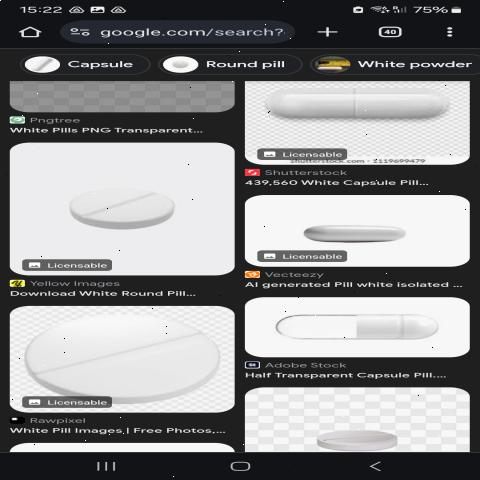Pill: (13, 311, 228, 406), (51, 175, 182, 252), (260, 82, 458, 128), (266, 308, 452, 351), (295, 216, 418, 246), (307, 424, 416, 451)
